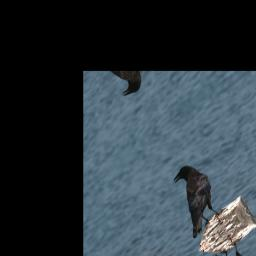Crow: (161, 156, 229, 241)
